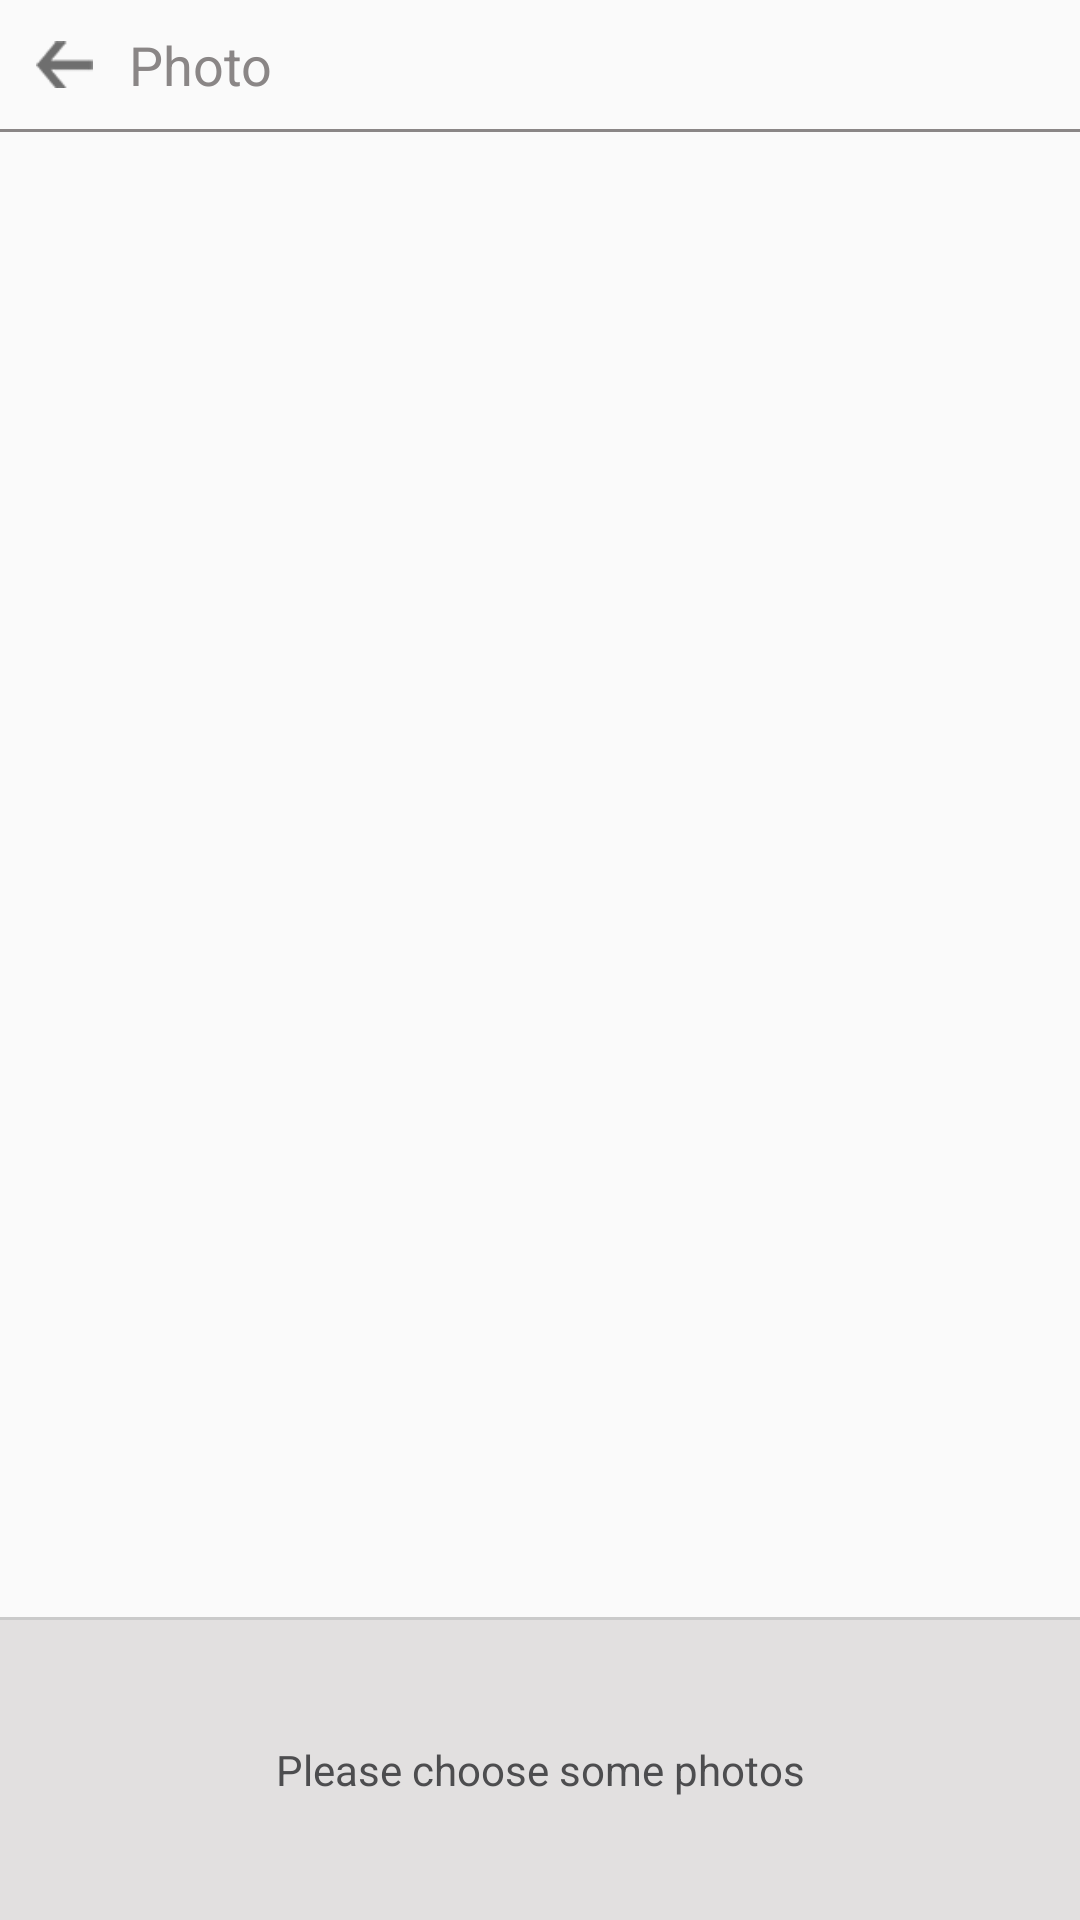

Named icons in this screenshot (1080 × 1920) and their bounding boxes, (x1, y1, x2, y2):
back: (36, 41, 93, 88)
